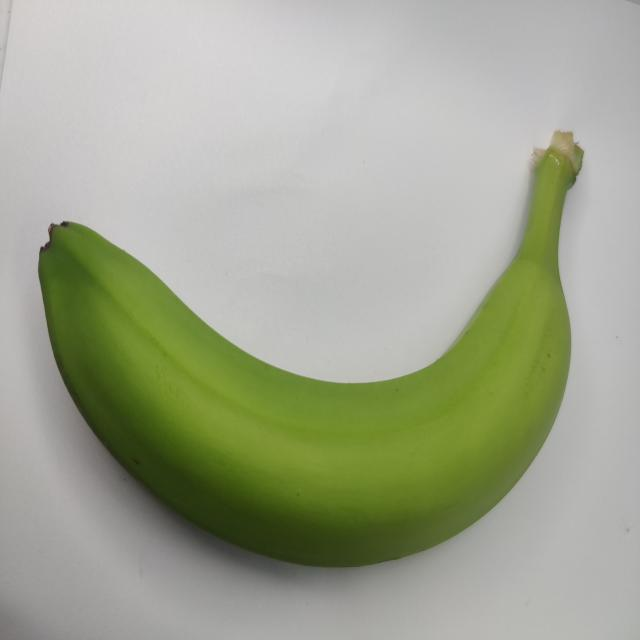raw: (29, 134, 592, 582)
